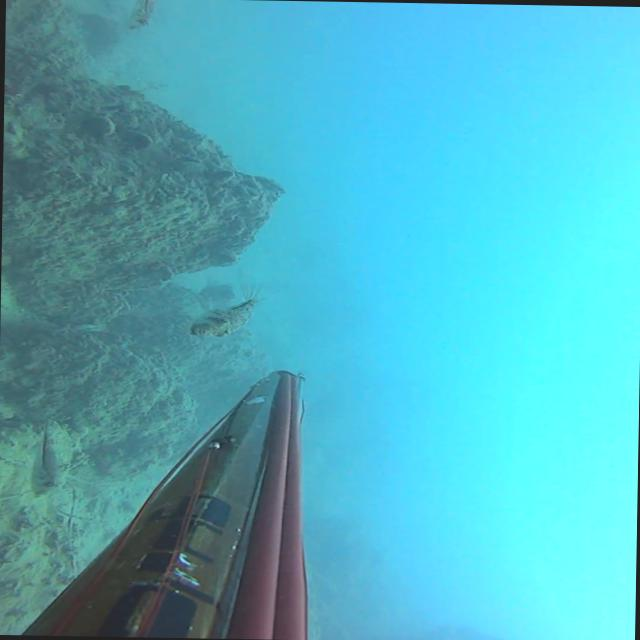Balon Baligi: (190, 280, 276, 336), (31, 418, 61, 493), (128, 0, 157, 29)
